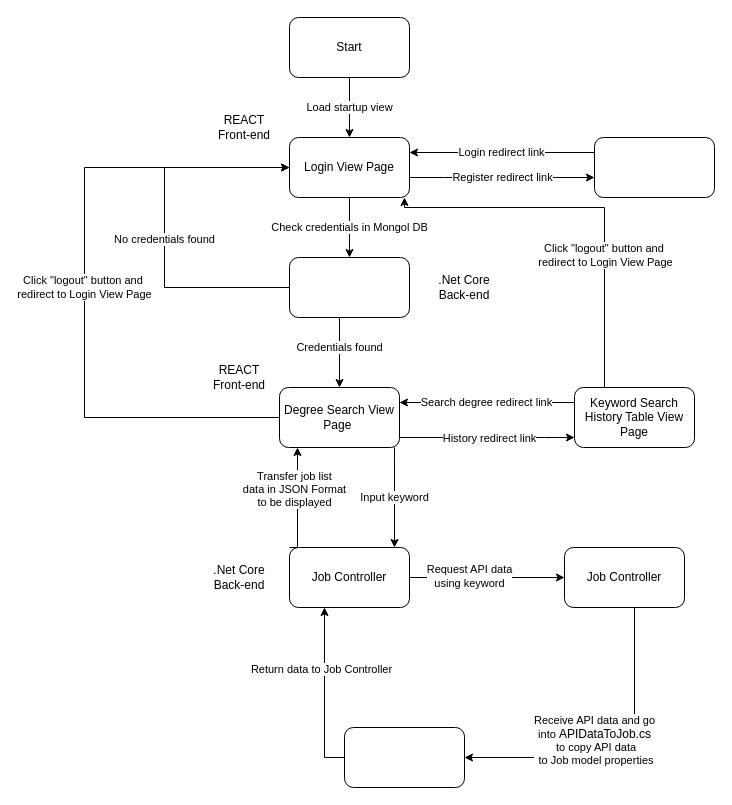
The diagram is 732 pixels wide and 805 high, and some of its shapes have lost their labels. Here are the shapes that lost their labels. From the top down, the centre of each, then its label:
pixel 654 167: Register View Page
pixel 349 287: Account Controller
pixel 404 757: APIDataToJob
